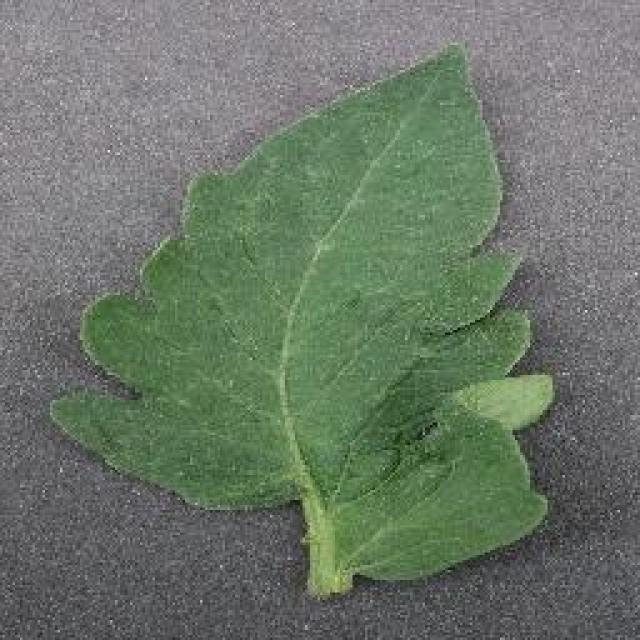Healthy: (37, 35, 565, 610)
